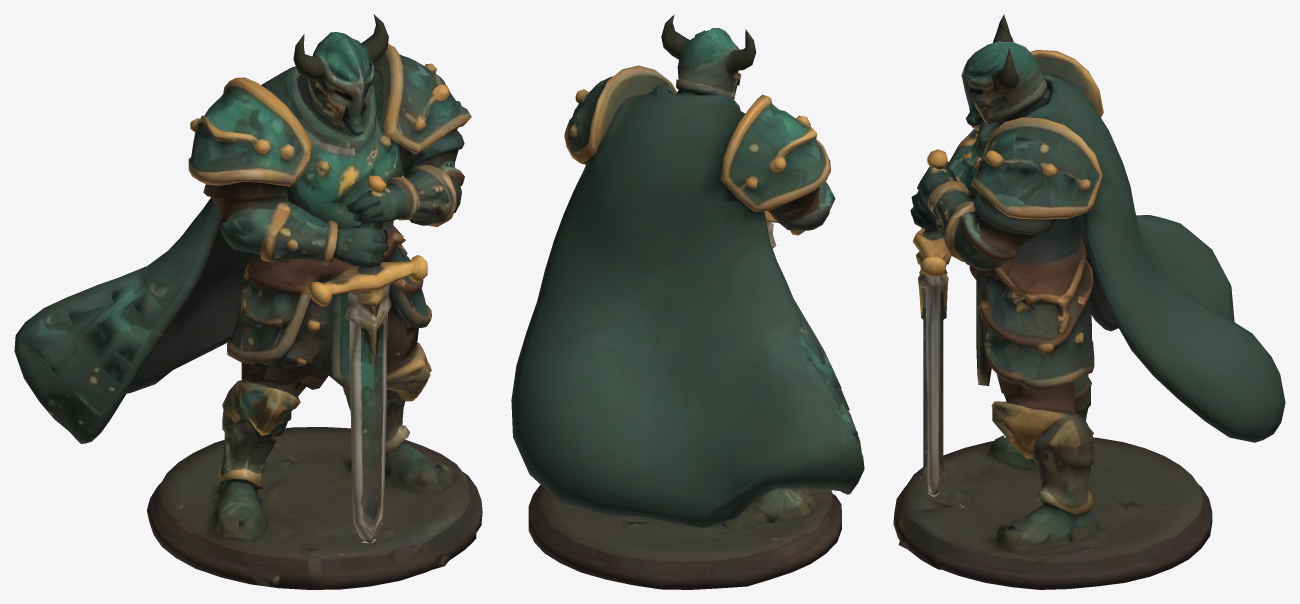
The picture shows the model from 3 angles, left to right: view 1: azimuth 30°, elevation 25°; view 2: azimuth 150°, elevation 25°; view 3: azimuth 270°, elevation 25°; orthographic projection. The views are drawn at different scales.
Parts seen in each view (by area): view 1: tripo_node_50346661-8874-4e3b-b639-3c15a8cc022d; view 2: tripo_node_50346661-8874-4e3b-b639-3c15a8cc022d; view 3: tripo_node_50346661-8874-4e3b-b639-3c15a8cc022d.
Boxes of the visible parts, left/top/right/bottom form: tripo_node_50346661-8874-4e3b-b639-3c15a8cc022d: left=14, top=14, right=482, bottom=589; tripo_node_50346661-8874-4e3b-b639-3c15a8cc022d: left=511, top=14, right=864, bottom=589; tripo_node_50346661-8874-4e3b-b639-3c15a8cc022d: left=893, top=14, right=1285, bottom=589.
Size of the model in its own units: 0.7887 by 1 by 0.7221.
Materials: 1 (1 with a texture image).
